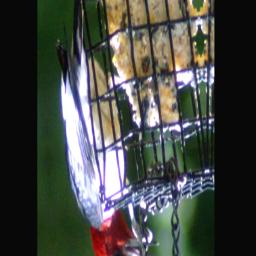Woodpecker: (51, 0, 163, 256)
